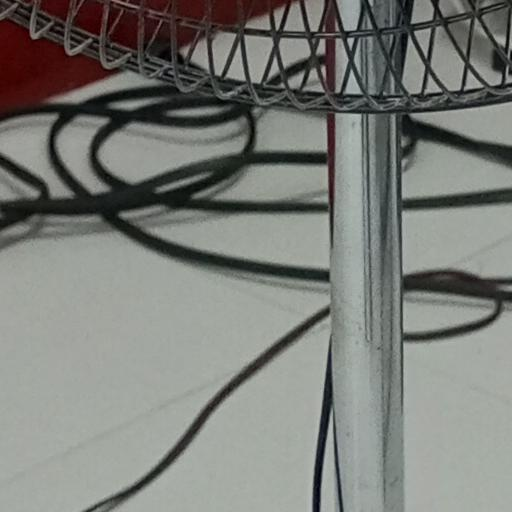Fan: (0, 0, 512, 211)
